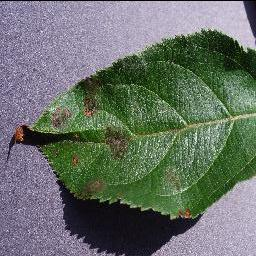apple healthy: (7, 27, 255, 222)
